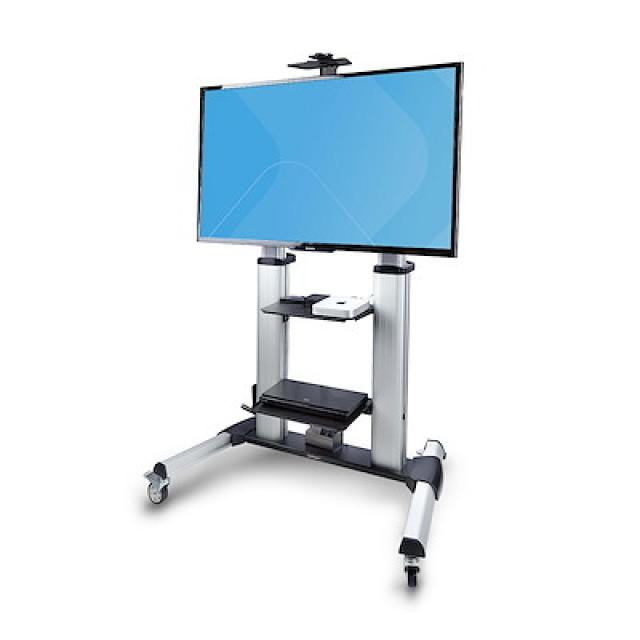electronics: (142, 64, 458, 586), (146, 256, 442, 586), (200, 64, 461, 251), (243, 378, 366, 430), (259, 378, 365, 418), (261, 294, 370, 320), (258, 248, 306, 302), (286, 53, 350, 74), (314, 296, 368, 317), (296, 54, 347, 70), (306, 426, 341, 448), (280, 296, 325, 304), (282, 296, 304, 301), (277, 310, 283, 314), (333, 440, 334, 442)
